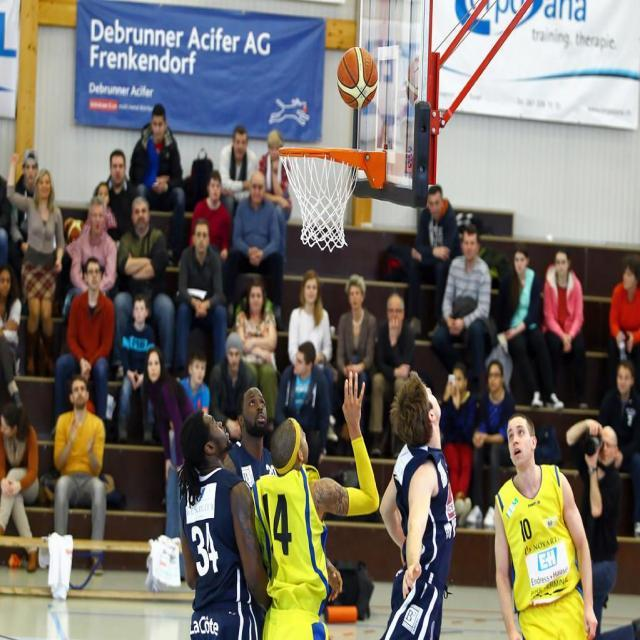rim: (338, 47, 376, 107)
